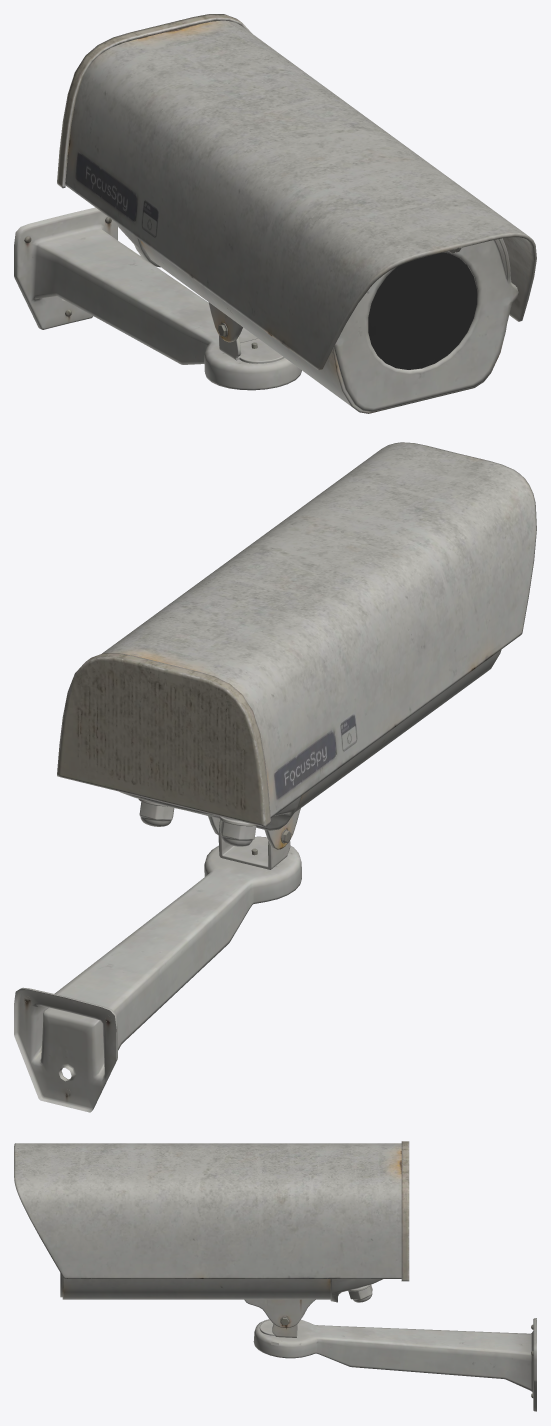
3 renders of one model, top to bottom at view 1: azimuth 30°, elevation 25°; view 2: azimuth 150°, elevation 25°; view 3: azimuth 270°, elevation 25°, orthographic. The views are drawn at different scales.
Visible parts, largest first — view 1: security_camera_01; view 2: security_camera_01; view 3: security_camera_01.
Boxes of the visible parts, left/top/right/bottom form: security_camera_01: left=14, top=14, right=536, bottom=413; security_camera_01: left=14, top=442, right=536, bottom=1112; security_camera_01: left=14, top=1141, right=536, bottom=1411.
Bounding box in the file's own units: 0.1695 × 0.2861 × 0.5537.
Materials: 2 (2 with a texture image).
